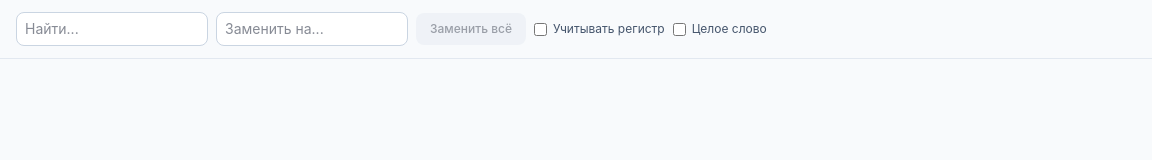
Scenario: FindReplacePanel › shows "Совпадений не найдено." for a query with no matches
Type "жжжабсолютно нет такого" into the field labelled "Найти".
click(112, 29); type("жжжабсолютно нет такого")  # box x1=16 y1=12 x2=208 y2=46
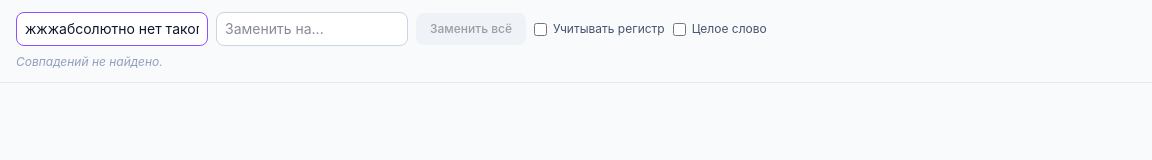
Expected: the button "Заменить всё" is disabled, x1=416 y1=13 x2=526 y2=45
Now the text "Совпадений не найдено." is shown, box x1=16 y1=54 x2=163 y2=69
